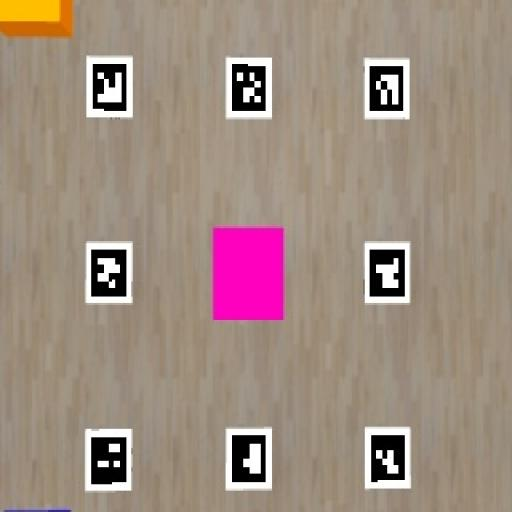car: (213, 227, 284, 322)
fire: (0, 0, 73, 38)
